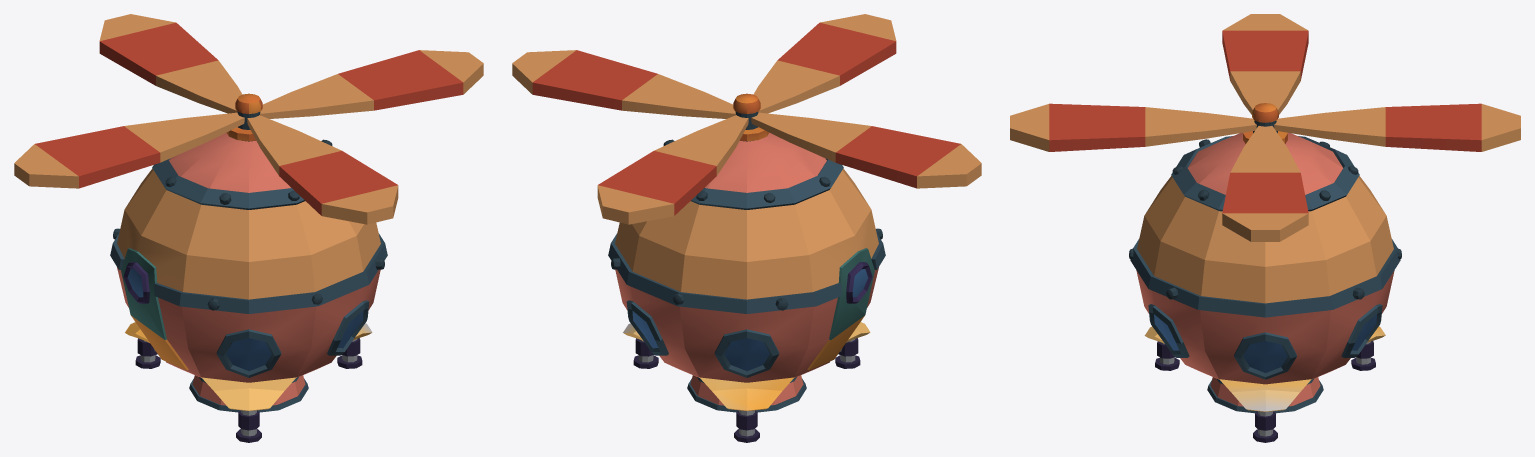
Rendered from FlyShip.fbx.
3 renders of one model, left to right at view 1: azimuth 30°, elevation 25°; view 2: azimuth 150°, elevation 25°; view 3: azimuth 270°, elevation 25°, orthographic. The views are drawn at different scales.
Parts seen in each view (by area): view 1: polySurface49, polySurface21, polySurface50, polySurface13; view 2: polySurface49, polySurface21, polySurface50, polySurface13; view 3: polySurface49, polySurface21, polySurface50.
Boxes of the visible parts, bbox=[...] form: polySurface49: bbox=[110, 132, 387, 412]; polySurface21: bbox=[14, 14, 483, 224]; polySurface50: bbox=[125, 322, 372, 442]; polySurface13: bbox=[121, 248, 188, 369]; polySurface49: bbox=[608, 132, 885, 412]; polySurface21: bbox=[512, 14, 981, 224]; polySurface50: bbox=[623, 322, 870, 442]; polySurface13: bbox=[807, 248, 874, 369]; polySurface49: bbox=[1129, 132, 1401, 413]; polySurface21: bbox=[1010, 14, 1520, 241]; polySurface50: bbox=[1144, 326, 1385, 442].
Size of the model in its own units: 144 by 88.75 by 144.
